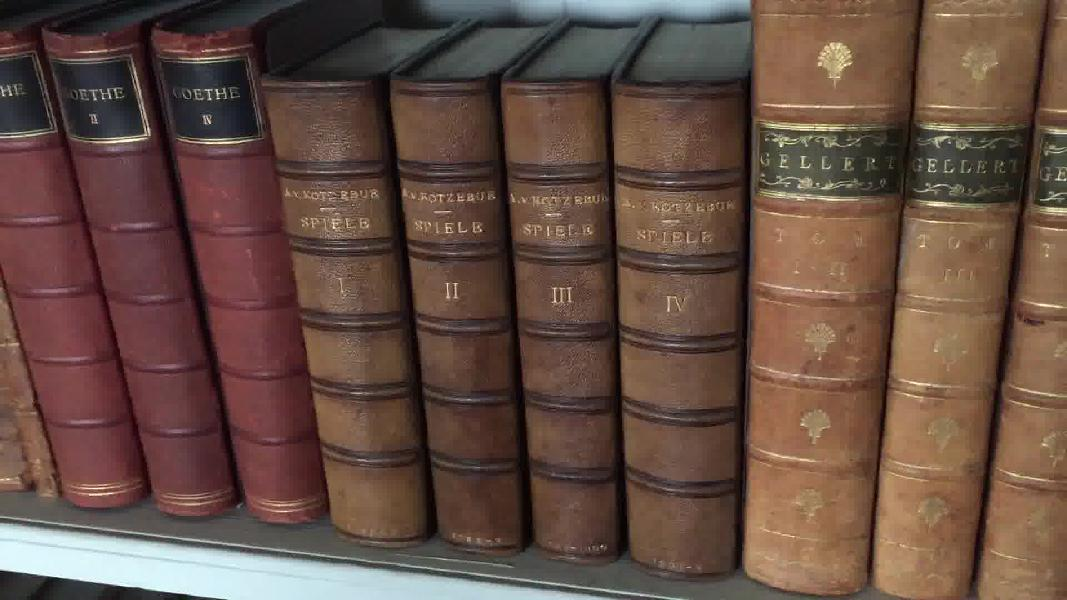Aa6-11_13: (11, 36, 331, 528)
Aa6-14_17: (248, 66, 756, 590)
